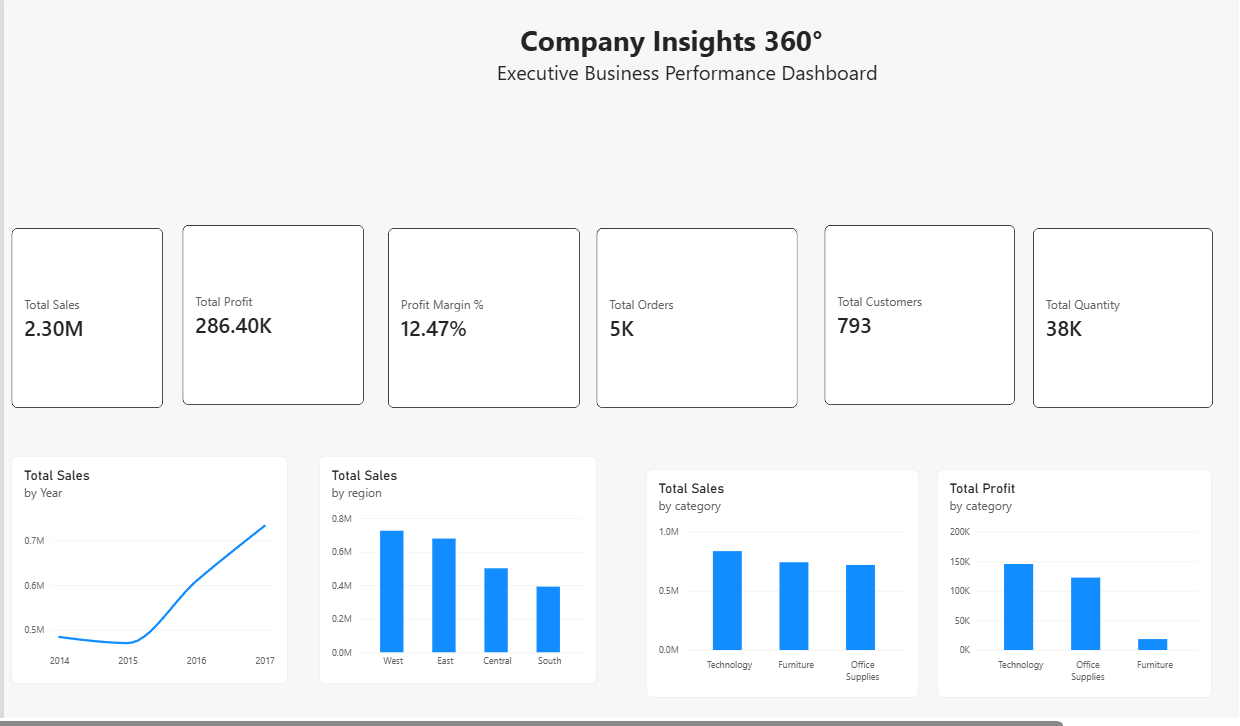

What the dashboard file says about the page in this screenshot:
{"tool":"powerbi","page":{"name":"Executive Overview","canvas":[1920,1080],"ordinal":0},"visuals":[{"type":"cardVisual","fields":{"Data":["company_insights_360 superstore_sales.Total Sales"]},"box":[10,304,202.1,240.8],"z":0},{"type":"cardVisual","fields":{"Data":["company_insights_360 superstore_sales.Total Profit"]},"box":[238,300,242,240],"z":2},{"type":"cardVisual","fields":{"Data":["company_insights_360 superstore_sales.Total Customers"]},"box":[1094,300,254.4,240.8],"z":3},{"type":"cardVisual","fields":{"Data":["company_insights_360 superstore_sales.Total Orders"]},"box":[790,304,268,240.8],"z":4},{"type":"cardVisual","fields":{"Data":["company_insights_360 superstore_sales.Total Quantity"]},"box":[1372,304,240,240],"z":5},{"type":"cardVisual","fields":{"Data":["company_insights_360 superstore_sales.Profit Margin %"]},"box":[512,304,256.7,240.8],"z":6},{"type":"lineChart","fields":{"Category":["company_insights_360 superstore_sales.order_date.Variation.Date Hierarchy.Year","company_insights_360 superstore_sales.order_date.Variation.Date Hierarchy.Quarter","company_insights_360 superstore_sales.order_date.Variation.Date Hierarchy.Month","company_insights_360 superstore_sales.order_date.Variation.Date Hierarchy.Day"],"Y":["company_insights_360 superstore_sales.Total Sales"]},"box":[10,608,368,304],"z":7},{"type":"columnChart","fields":{"Category":["company_insights_360 superstore_sales.region"],"Y":["company_insights_360 superstore_sales.Total Sales"]},"box":[420,608,370,304],"z":8},{"type":"columnChart","fields":{"Category":["company_insights_360 superstore_sales.category"],"Y":["company_insights_360 superstore_sales.Total Sales"]},"box":[856,626,364,304],"z":9},{"type":"columnChart","fields":{"Category":["company_insights_360 superstore_sales.category"],"Y":["company_insights_360 superstore_sales.Total Profit"]},"box":[1244,626,366,304],"z":10},{"type":"textbox","box":[606,28,638,232],"z":12}]}

Visuals, with their boxes on the page's 1920x1080 design canvas (x1, y1, x2, y2). These are canvas units, not pixel positions in the 1240x726 screenshot, which may show the page scaled, cropped or inside an application window:
cardVisual - company_insights_360 superstore_sales.Total Sales: l=10, t=304, r=212, b=545
cardVisual - company_insights_360 superstore_sales.Total Profit: l=238, t=300, r=480, b=540
cardVisual - company_insights_360 superstore_sales.Total Customers: l=1094, t=300, r=1348, b=541
cardVisual - company_insights_360 superstore_sales.Total Orders: l=790, t=304, r=1058, b=545
cardVisual - company_insights_360 superstore_sales.Total Quantity: l=1372, t=304, r=1612, b=544
cardVisual - company_insights_360 superstore_sales.Profit Margin %: l=512, t=304, r=769, b=545
lineChart - company_insights_360 superstore_sales.order_date.Variation.Date Hierarchy.Year x company_insights_360 superstore_sales.order_date.Variation.Date Hierarchy.Quarter: l=10, t=608, r=378, b=912
columnChart - company_insights_360 superstore_sales.region x company_insights_360 superstore_sales.Total Sales: l=420, t=608, r=790, b=912
columnChart - company_insights_360 superstore_sales.category x company_insights_360 superstore_sales.Total Sales: l=856, t=626, r=1220, b=930
columnChart - company_insights_360 superstore_sales.category x company_insights_360 superstore_sales.Total Profit: l=1244, t=626, r=1610, b=930
textbox: l=606, t=28, r=1244, b=260
